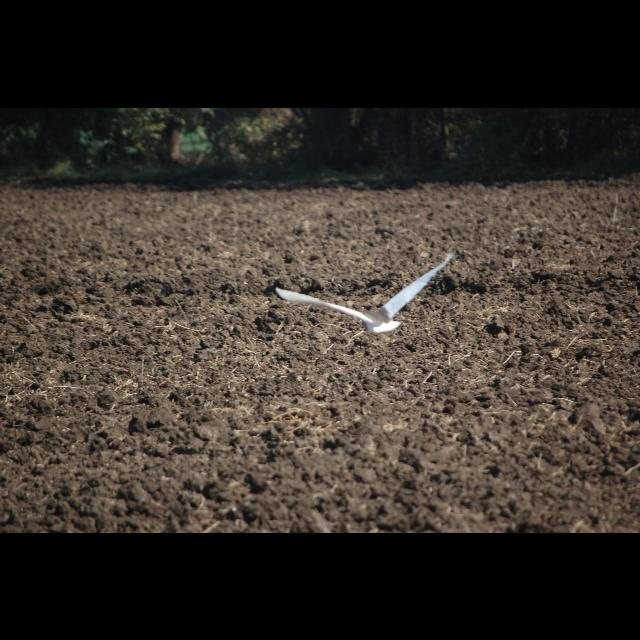egret: (268, 254, 452, 334)
